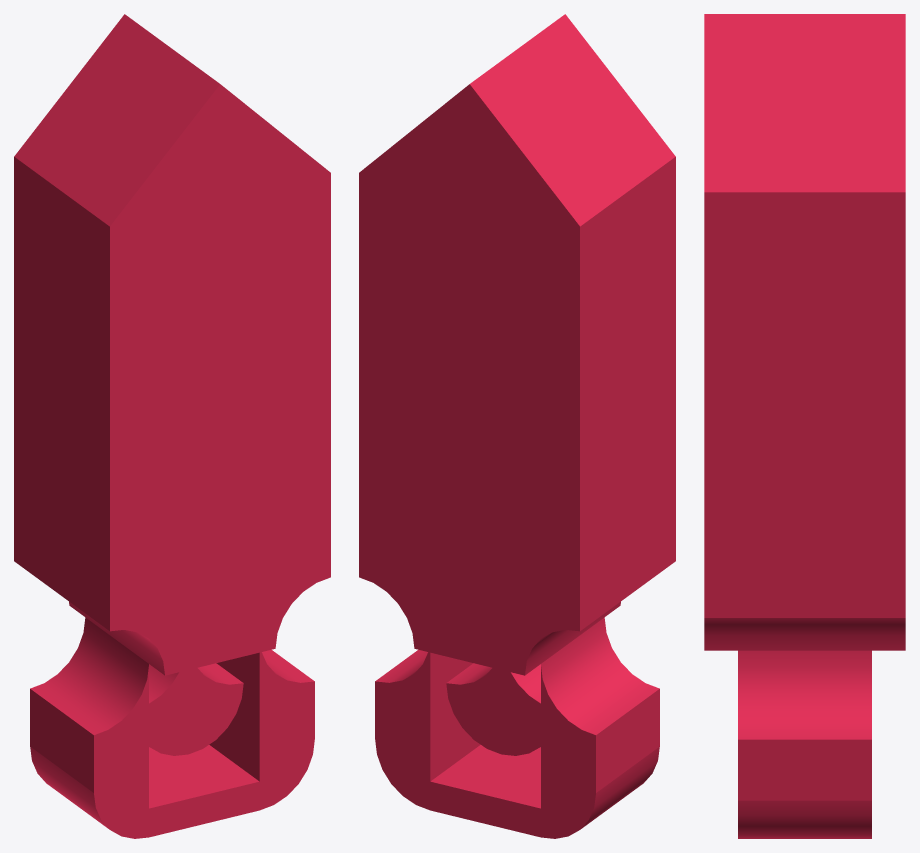
The model's file is pium.obj.
3 renders of one model, left to right at view 1: azimuth 30°, elevation 25°; view 2: azimuth 150°, elevation 25°; view 3: azimuth 270°, elevation 25°, orthographic. The views are drawn at different scales.
Bounding box in the file's own units: 4 × 13 × 3.
